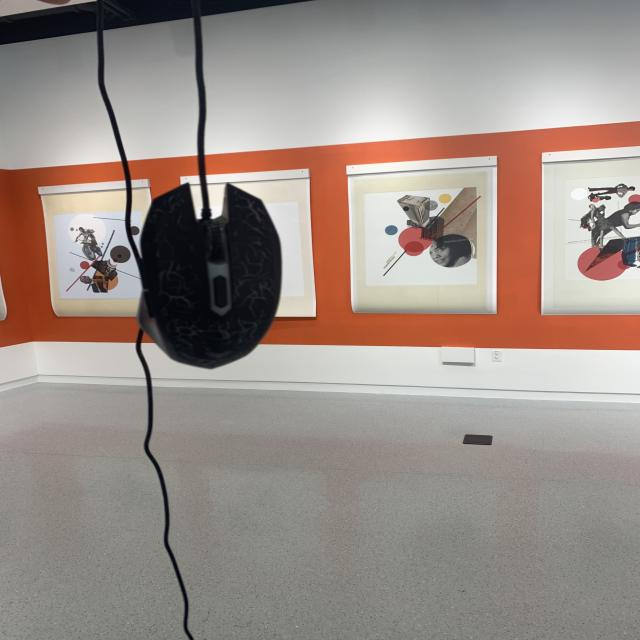Mouse: (132, 170, 316, 382)
